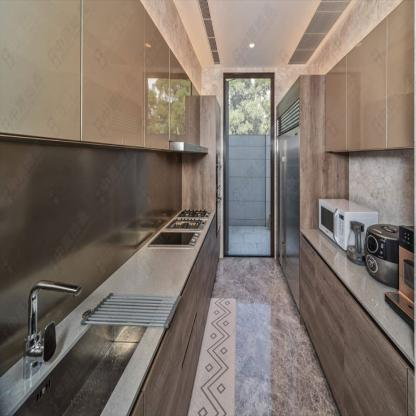Cupboard: (1, 1, 202, 150), (301, 233, 414, 415), (322, 0, 413, 152)
Exhaust Hood: (172, 139, 206, 152)
Faucet: (24, 281, 83, 356)
Microwave: (318, 197, 378, 251)
Sink: (12, 321, 145, 415)
Stove: (147, 207, 212, 246)
